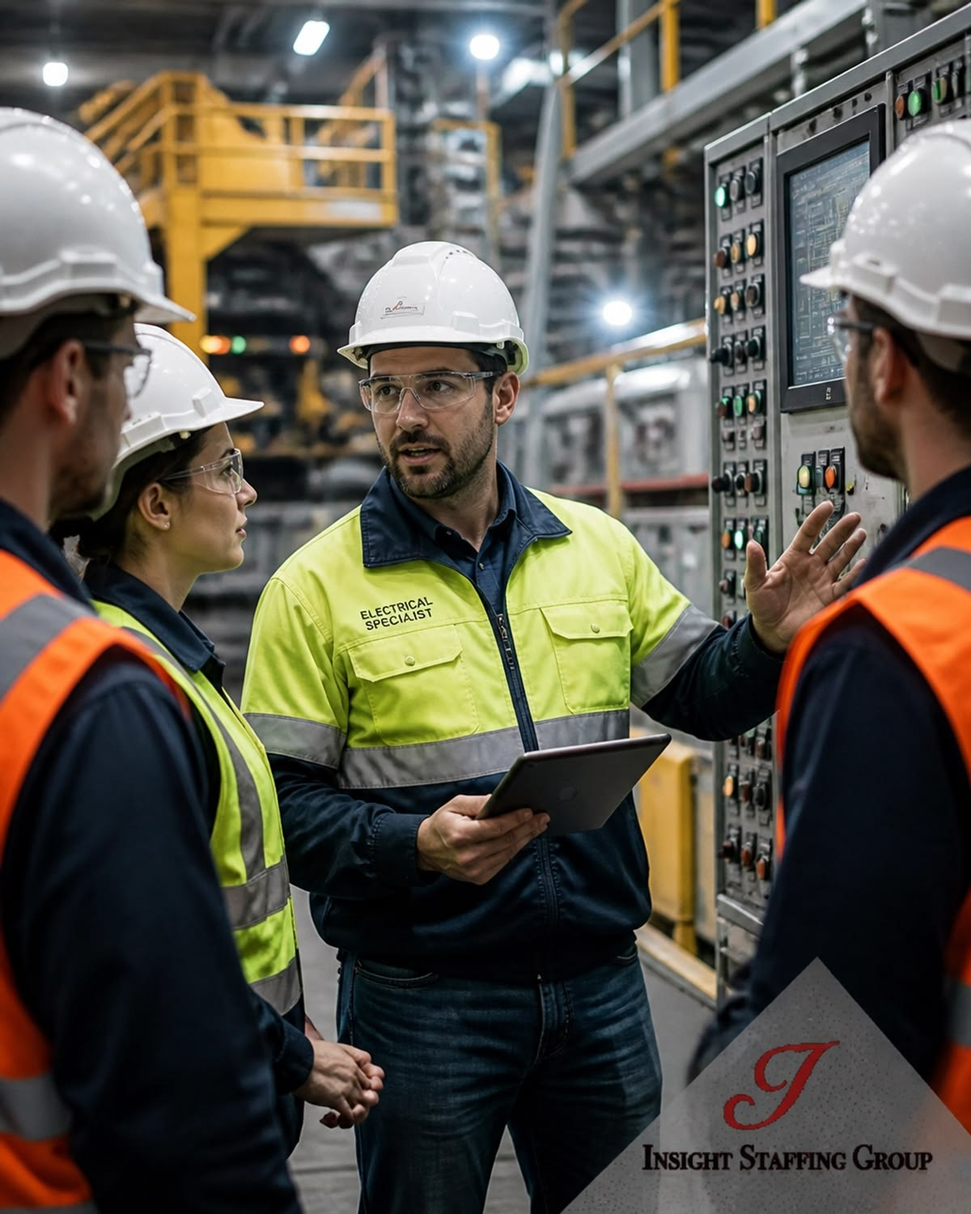hardhat: (796, 114, 963, 391), (322, 232, 535, 403), (94, 305, 252, 519), (12, 114, 169, 303)
person: (307, 228, 723, 1183), (14, 95, 307, 1197), (81, 301, 377, 1152), (731, 97, 965, 1148)
safety_vest: (232, 503, 694, 1067), (10, 511, 281, 1187), (83, 552, 320, 1142), (737, 501, 961, 1026)
